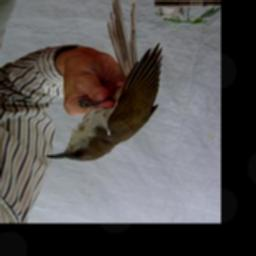Cuckoo: (45, 0, 161, 163)
